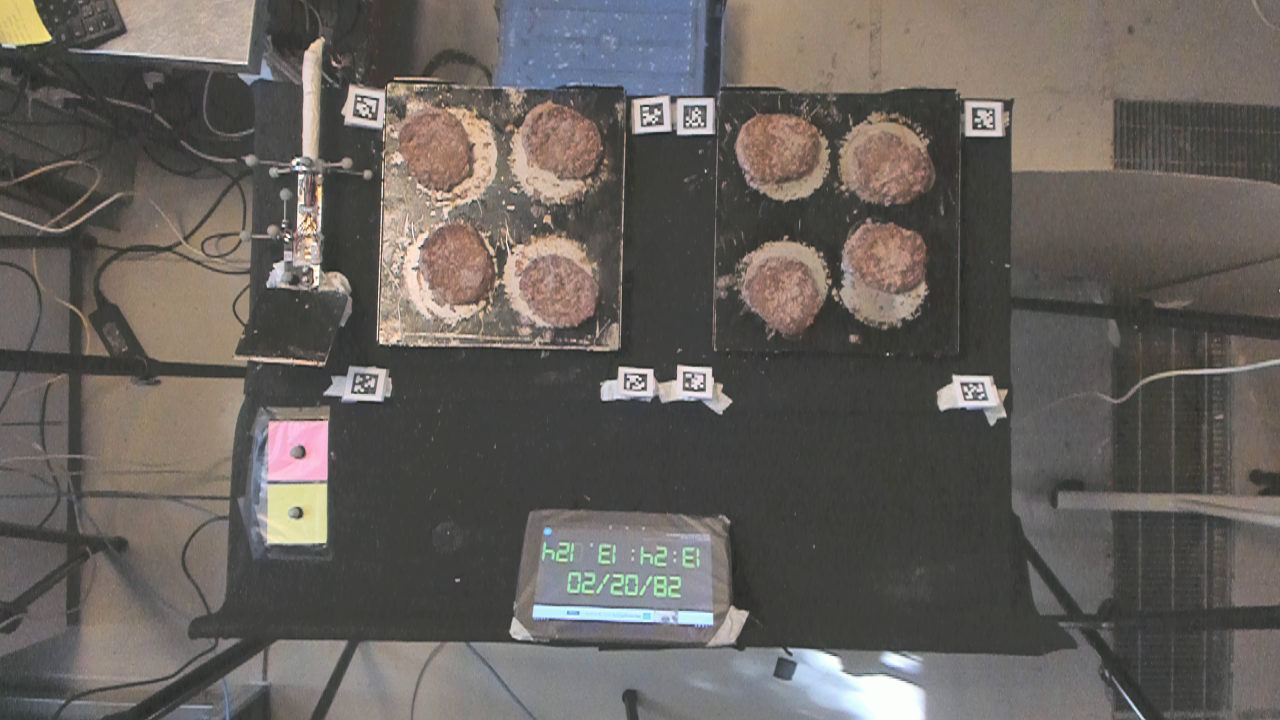hamburger: (839, 219, 936, 297), (847, 127, 942, 201), (731, 257, 817, 336), (738, 102, 819, 184), (516, 101, 602, 178), (419, 224, 493, 311), (400, 111, 473, 192), (522, 256, 604, 327)
marker: (266, 422, 329, 481)
